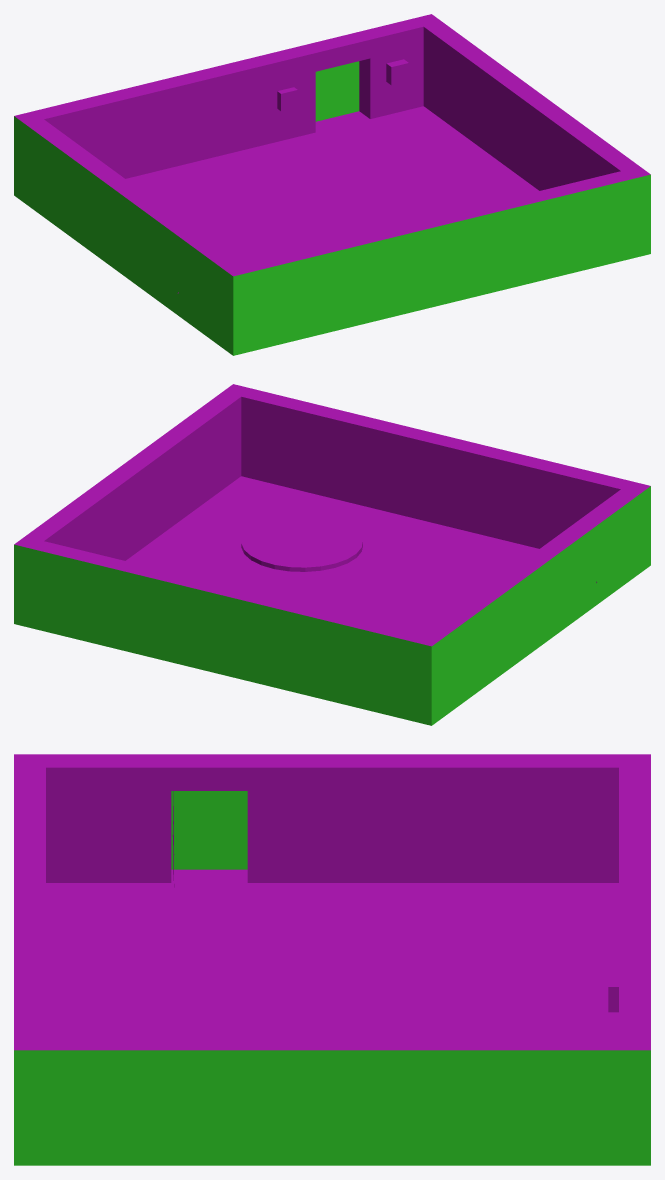
Rendered from NivelSilla.FBX.
The picture shows the model from 3 angles, top to bottom: view 1: azimuth 30°, elevation 25°; view 2: azimuth 150°, elevation 25°; view 3: azimuth 270°, elevation 25°; orthographic projection. The views are drawn at different scales.
Parts seen in each view (by area): view 1: Model; view 2: Model; view 3: Model.
Part boxes in pixels (<box>): Model: <box>14,14,650,355</box>; Model: <box>14,384,650,725</box>; Model: <box>14,754,650,1165</box>.
Size of the model in its own units: 434 by 78.74 by 394.
